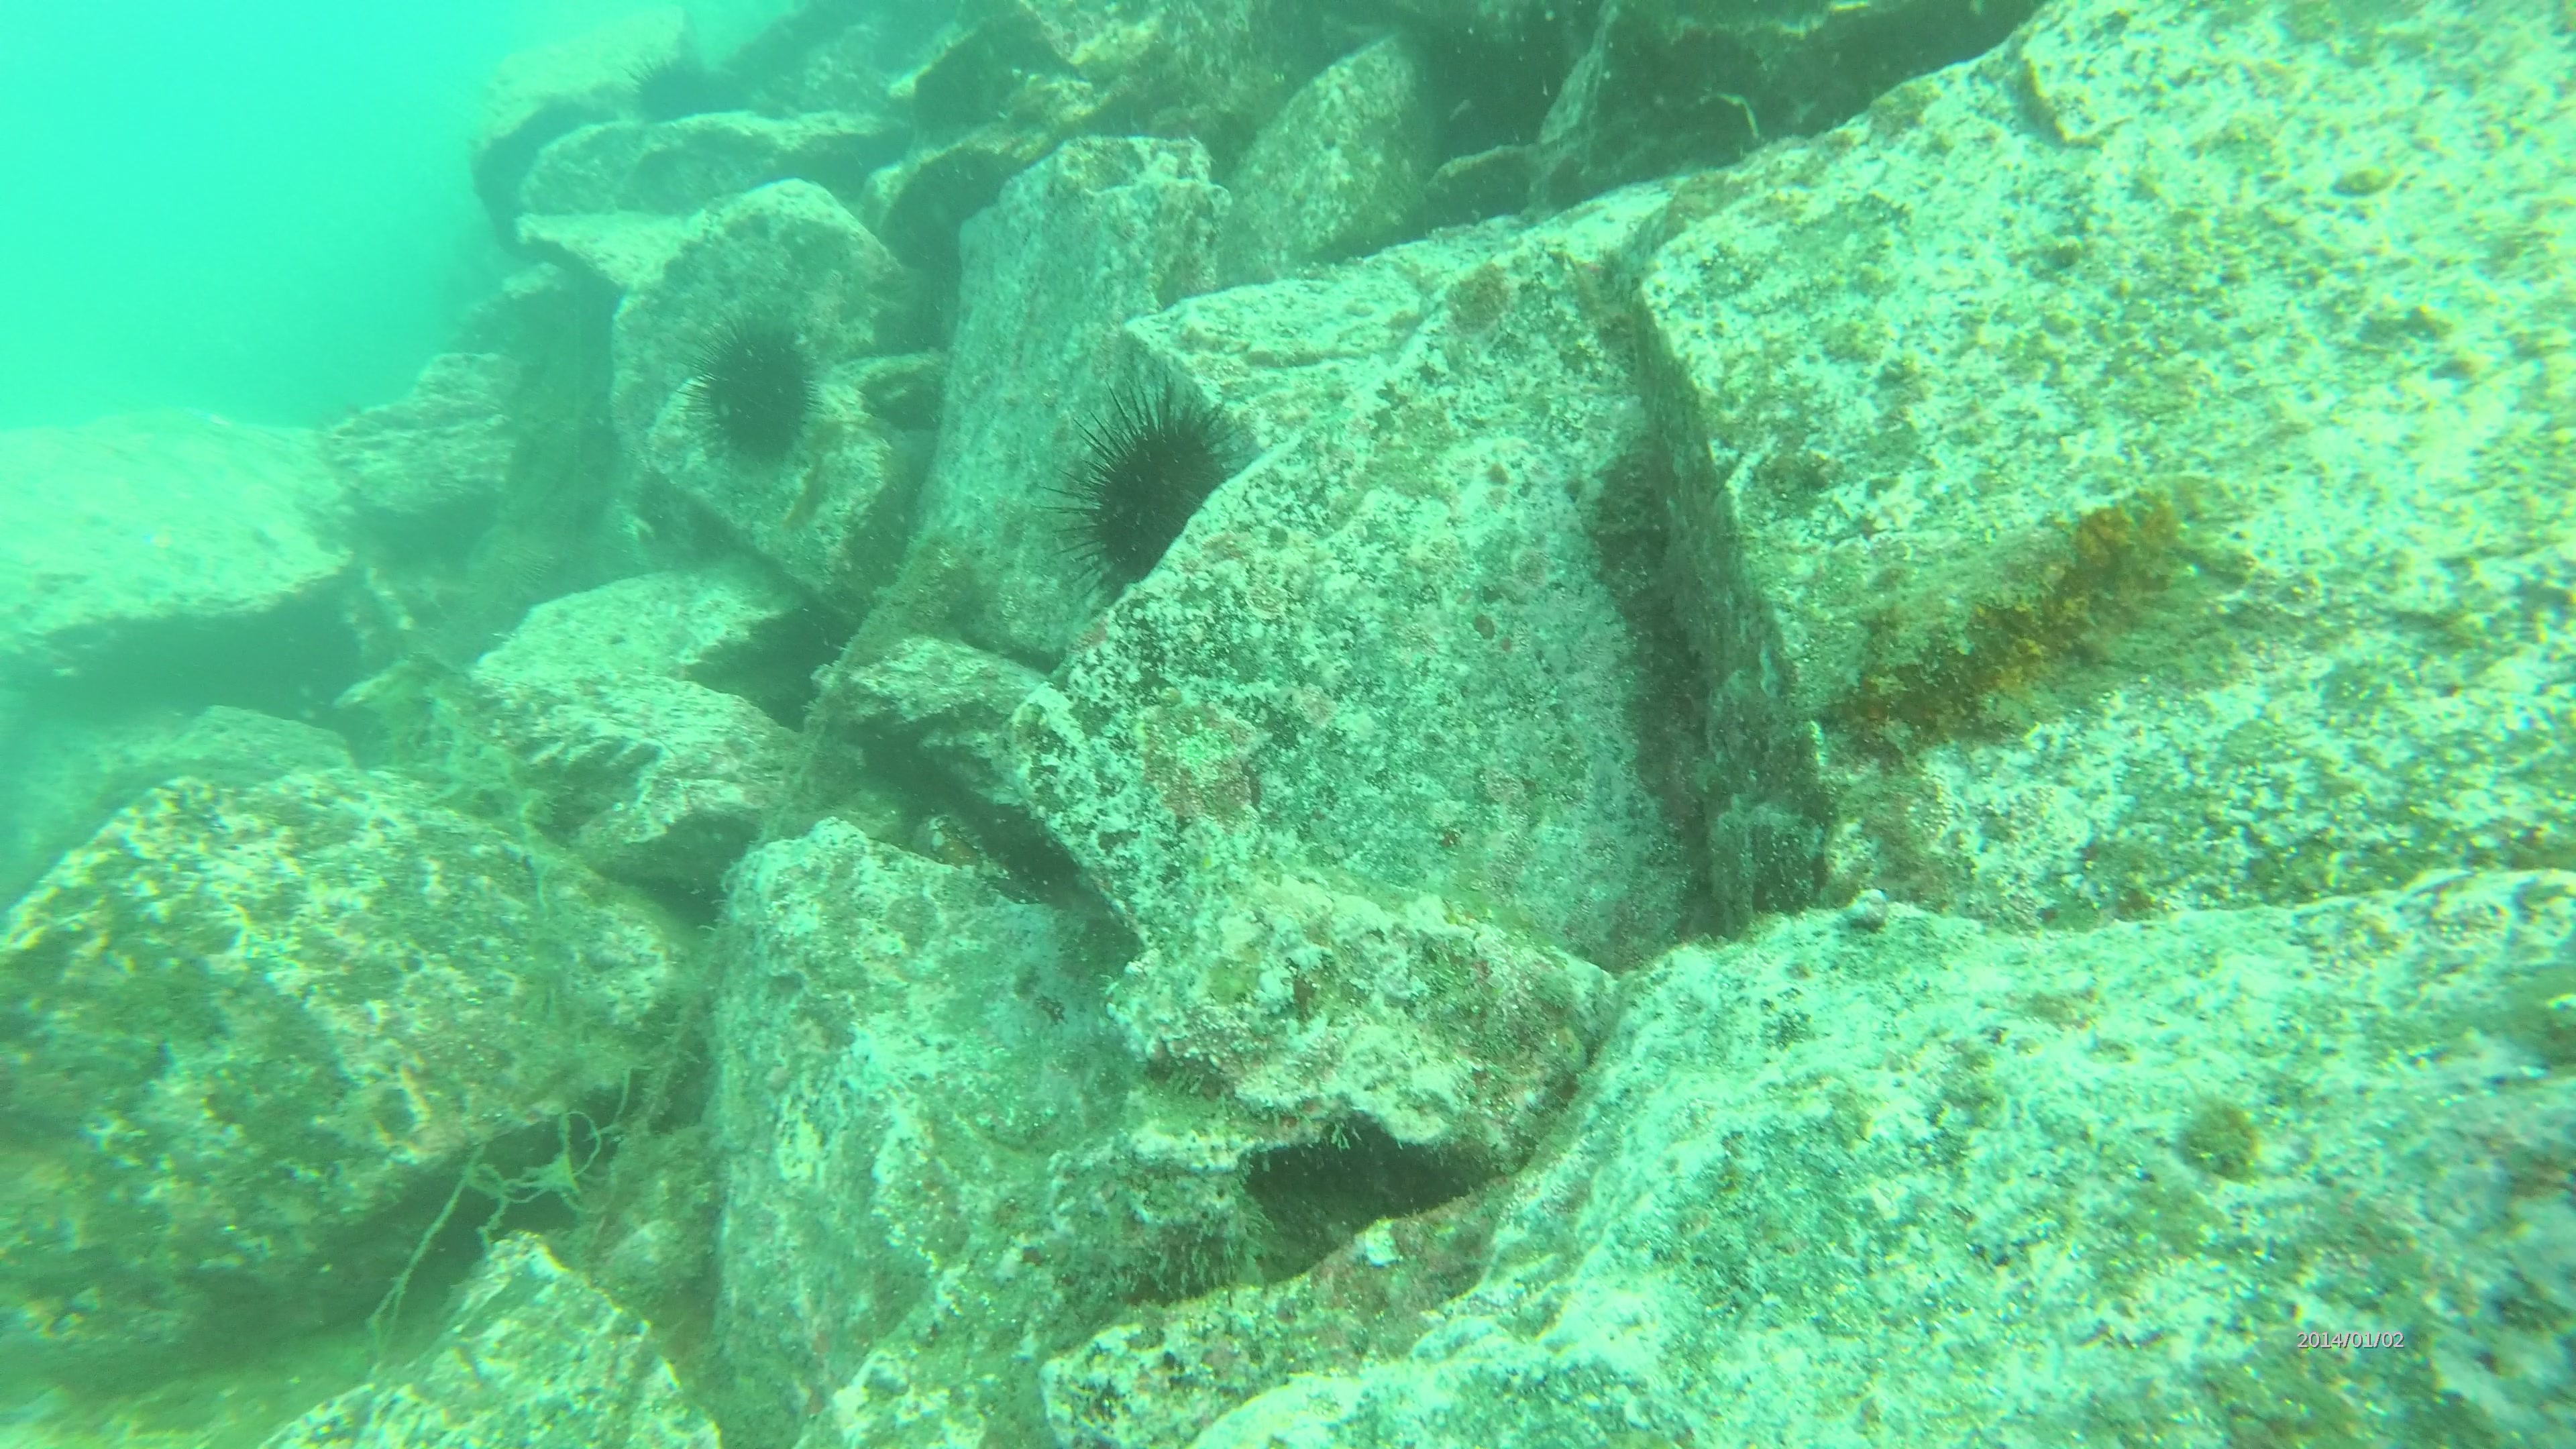echinus: (1053, 375, 1256, 600), (676, 315, 833, 472), (628, 46, 738, 131)
